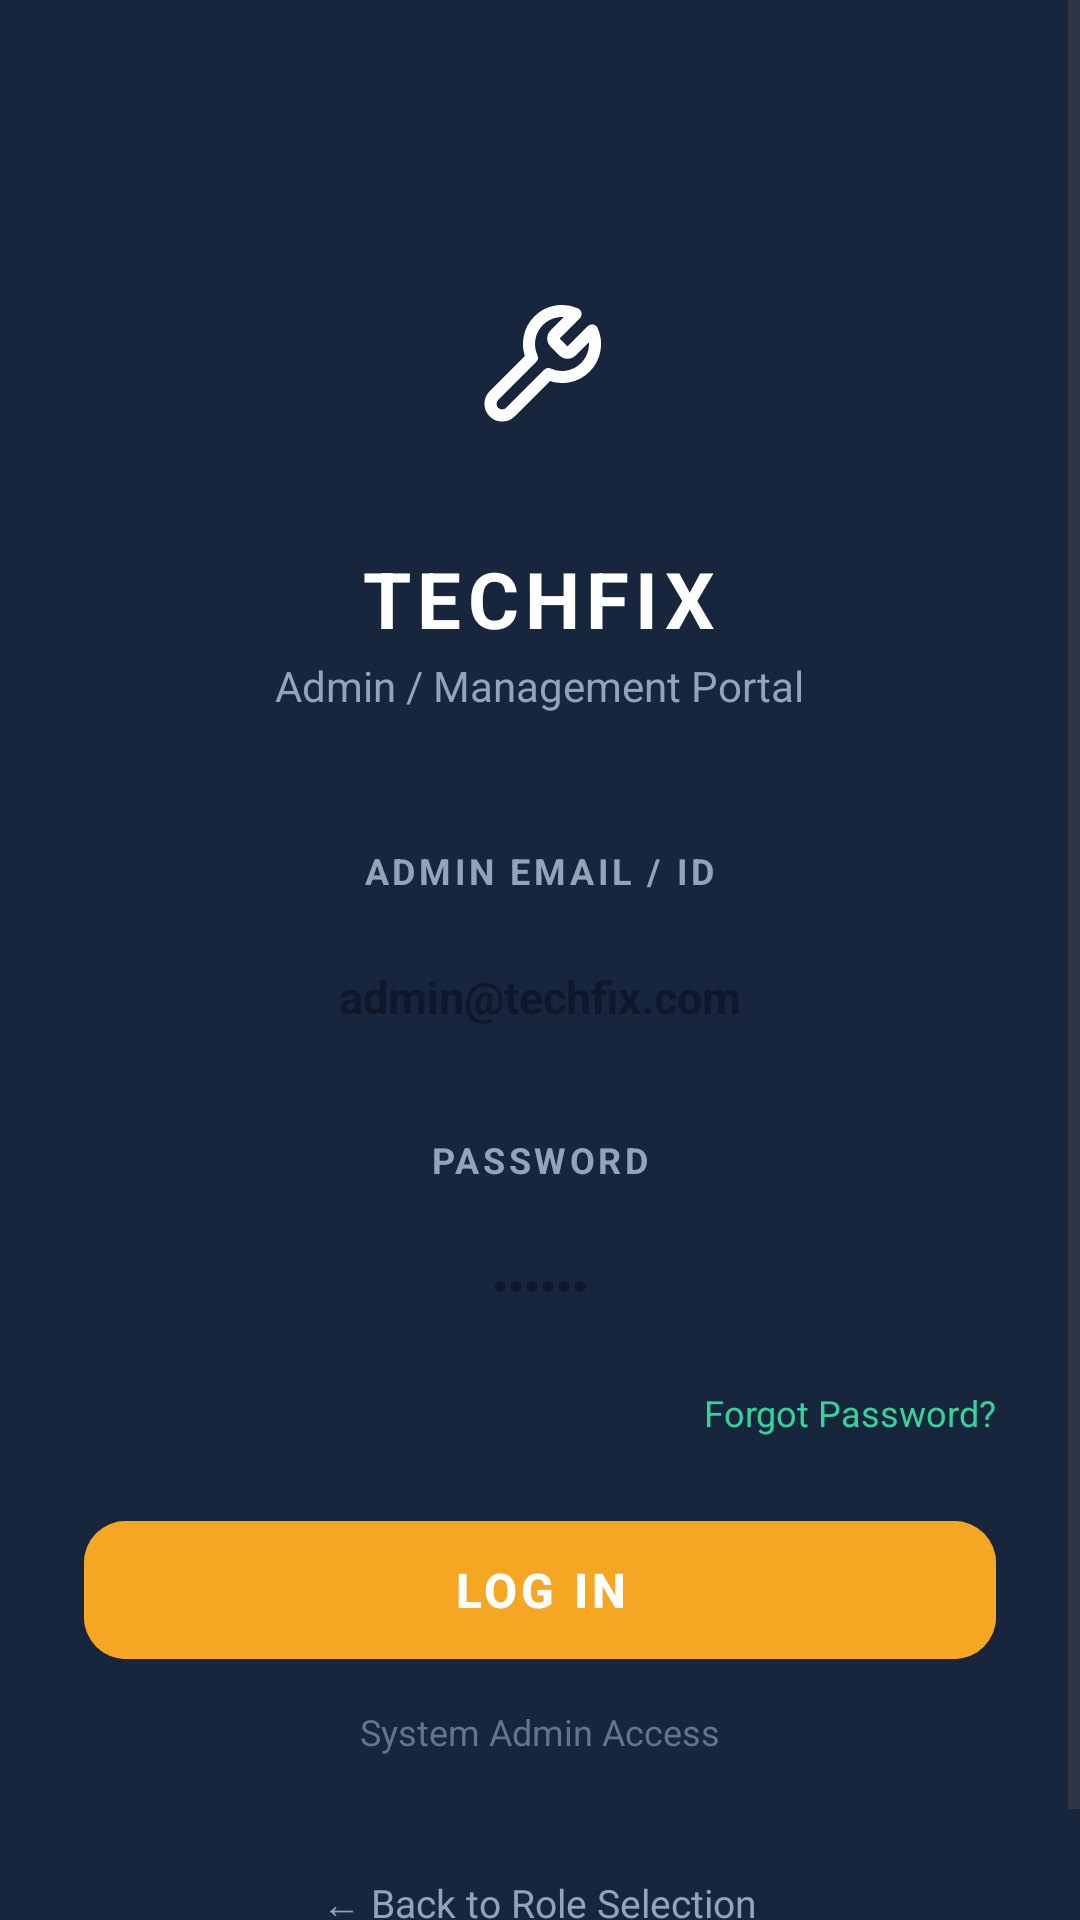

Locate icon controls on the screen. Image size 1080w x 1920h, boxes as (x1, y1, x2, y2).
wrench: (484, 305, 601, 422)
